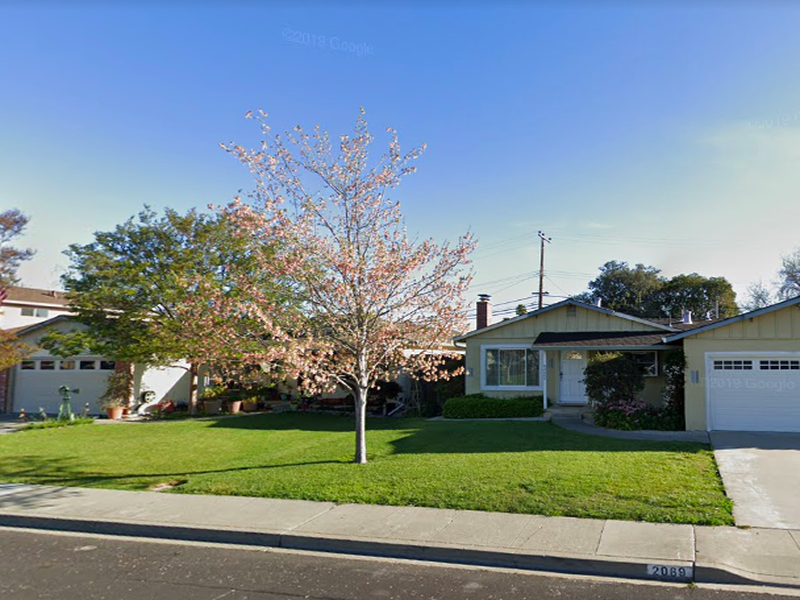tree: (184, 105, 479, 465), (41, 202, 209, 423)
